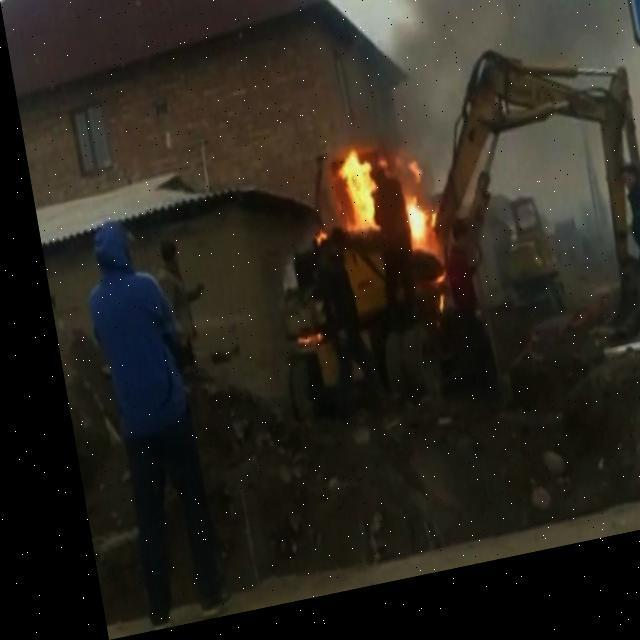Fire: (323, 155, 421, 268)
